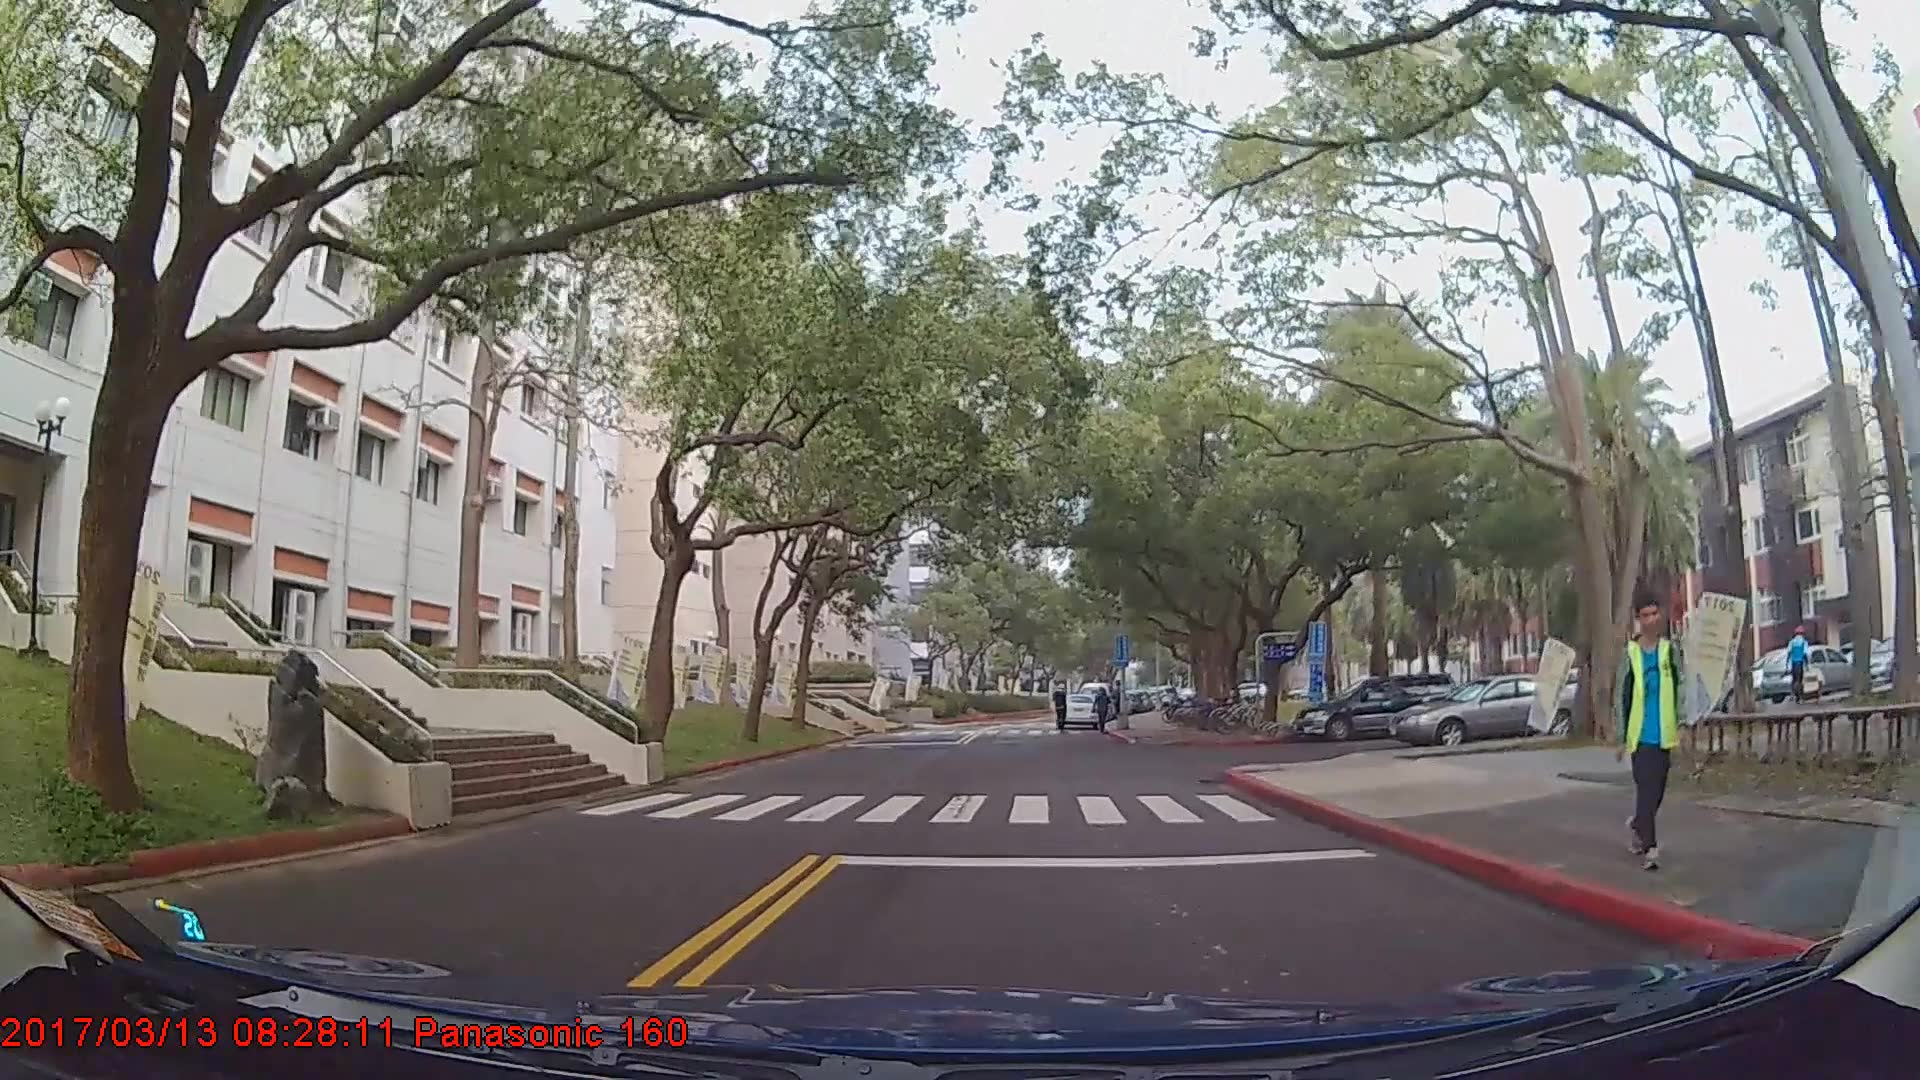pedestrian: (1611, 584, 1689, 866), (1780, 617, 1815, 709), (1050, 685, 1070, 735), (1093, 687, 1113, 735)
vehicle: (1388, 670, 1591, 746), (1294, 670, 1460, 739), (1761, 640, 1856, 699), (1055, 691, 1100, 728)
